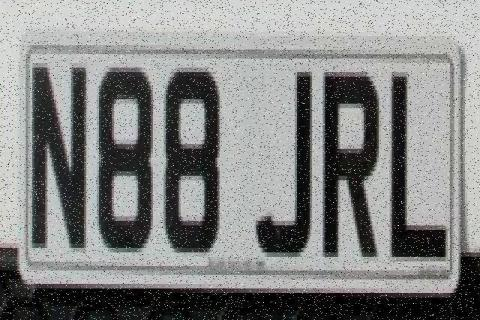LicensePlate: (10, 5, 464, 298)
